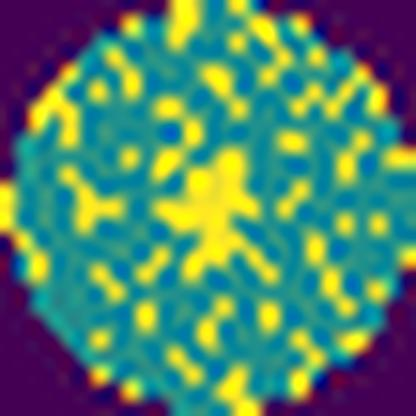Center: (154, 147, 280, 284)
